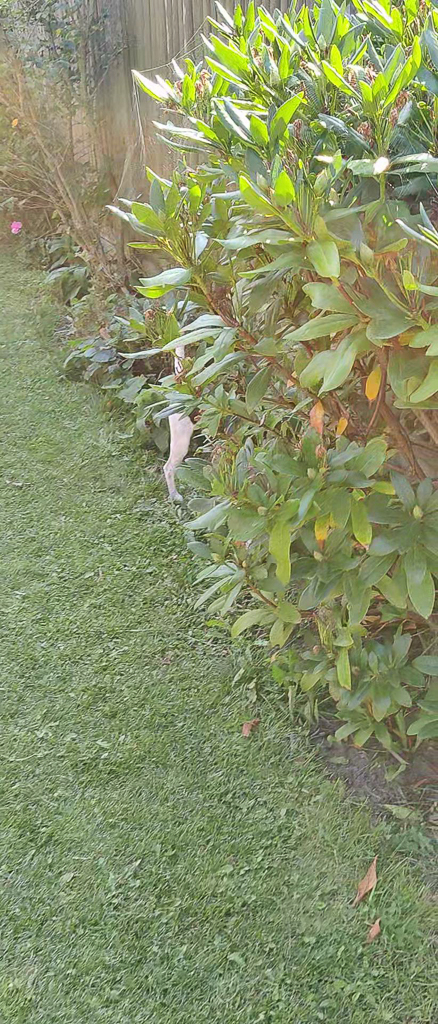Dog: (155, 326, 221, 511)
